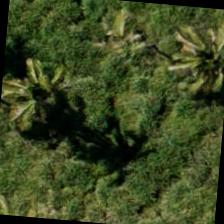Kelapa_Sawit: (0, 41, 89, 139), (159, 8, 223, 104)
